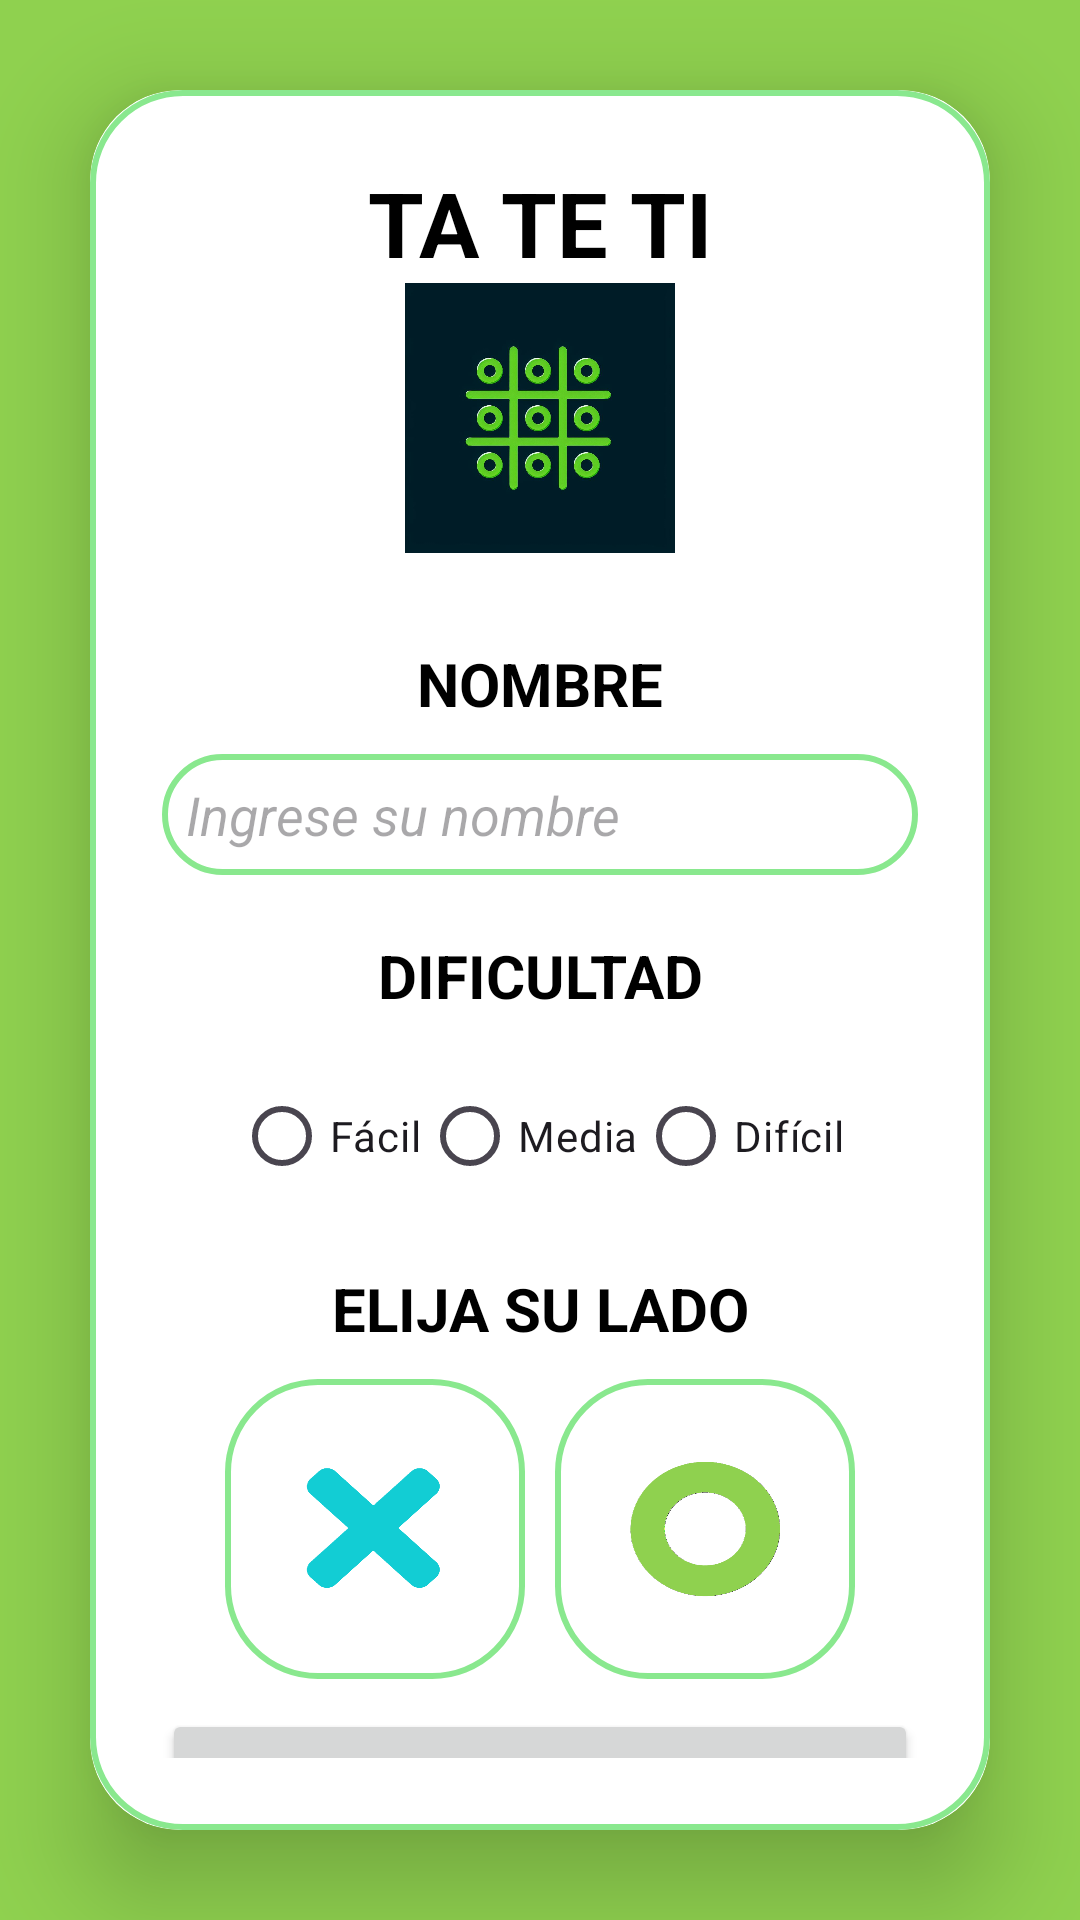

Named icons in this screenshot (1080px×1920px) and their centers, (x=x, y=y):
circulo: (x=705, y=1529)
cruz: (x=373, y=1528)
